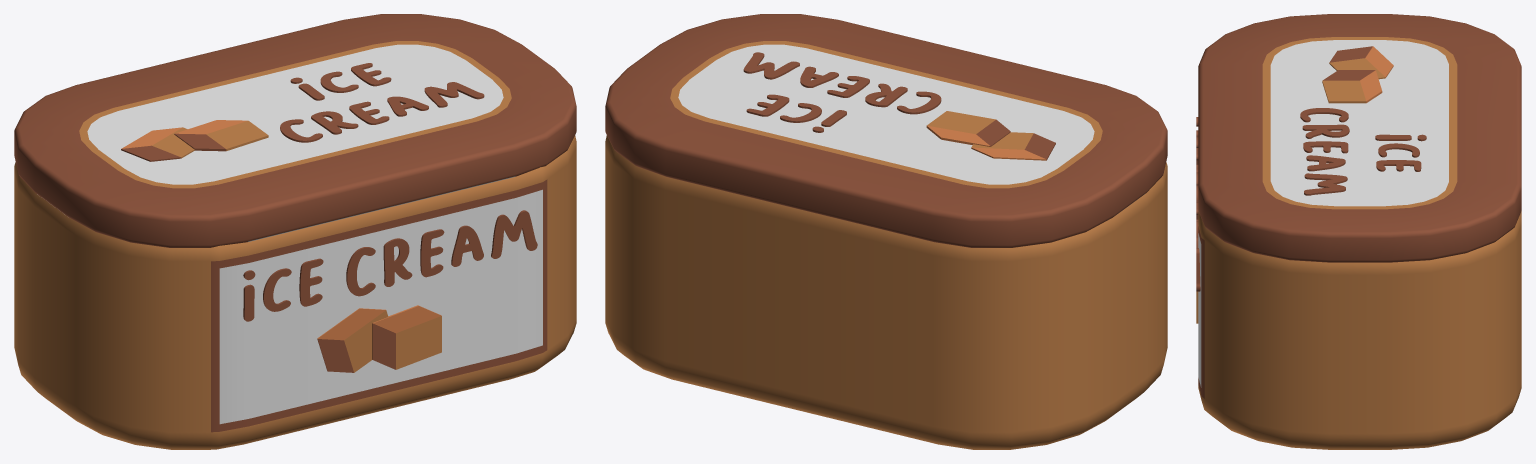
File: lody4.fbx
The picture shows the model from 3 angles, left to right: view 1: azimuth 30°, elevation 25°; view 2: azimuth 150°, elevation 25°; view 3: azimuth 270°, elevation 25°; orthographic projection. The views are drawn at different scales.
Visible parts, largest first — view 1: Cube.061, Cube.062, Text.007, Text.008, Plane.003, Plane.004, Plane.005, Plane.006; view 2: Cube.061, Cube.062, Text.008, Plane.005, Plane.006; view 3: Cube.062, Cube.061, Text.008, Plane.005, Plane.006, Text.007.
Part boxes in pixels (box(x1,y1,x2,y2)): Cube.061: box(14, 135, 576, 449); Cube.062: box(14, 14, 576, 247); Text.007: box(243, 210, 537, 321); Text.008: box(280, 63, 484, 142); Plane.003: box(372, 305, 441, 369); Plane.004: box(317, 308, 388, 372); Plane.005: box(174, 120, 268, 151); Plane.006: box(121, 127, 194, 161); Cube.061: box(605, 135, 1167, 449); Cube.062: box(605, 14, 1167, 247); Text.008: box(743, 52, 941, 132); Plane.005: box(926, 111, 1010, 146); Plane.006: box(971, 132, 1055, 160); Cube.062: box(1198, 14, 1521, 262); Cube.061: box(1198, 211, 1521, 449); Text.008: box(1300, 108, 1426, 195); Plane.005: box(1322, 70, 1382, 103); Plane.006: box(1329, 46, 1393, 79); Text.007: box(1196, 117, 1200, 291).
Bounding box in the file's own units: 324 × 154 × 201.
